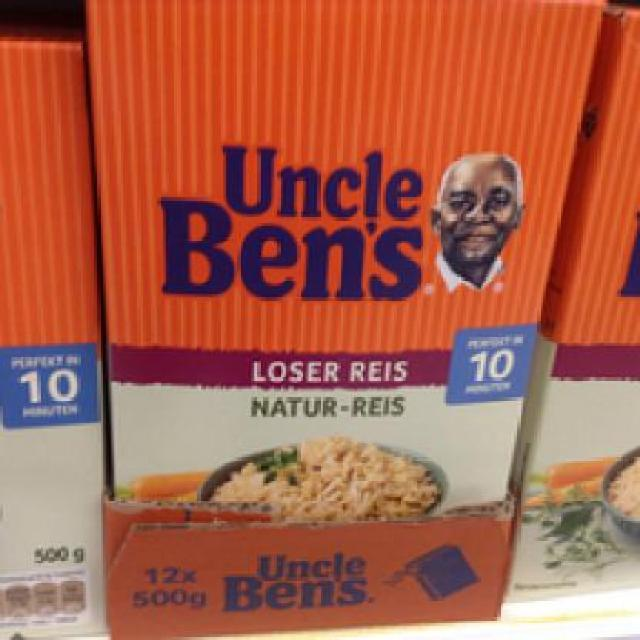Rice: (80, 0, 606, 509)
